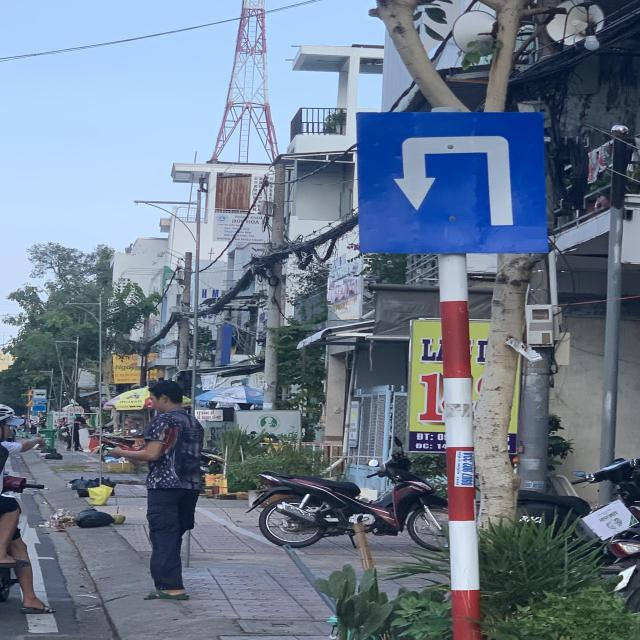Den_Giao_Thong: (355, 113, 549, 255)
